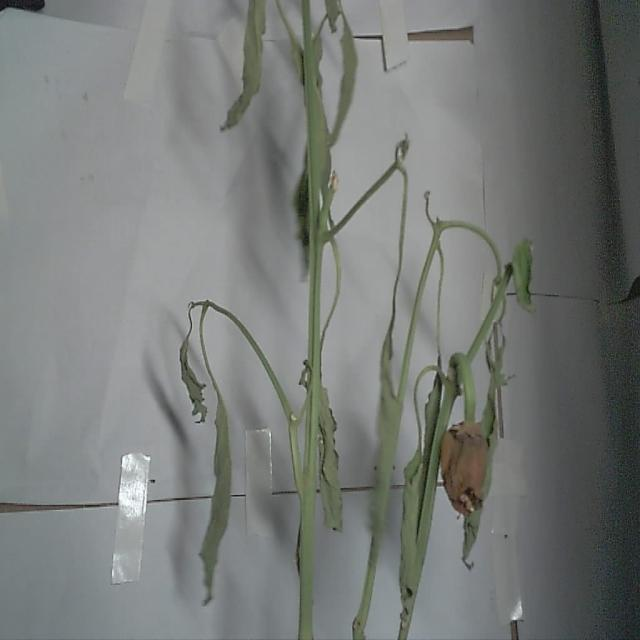Leaf: (201, 362, 233, 607), (229, 2, 266, 134), (401, 438, 422, 628)
